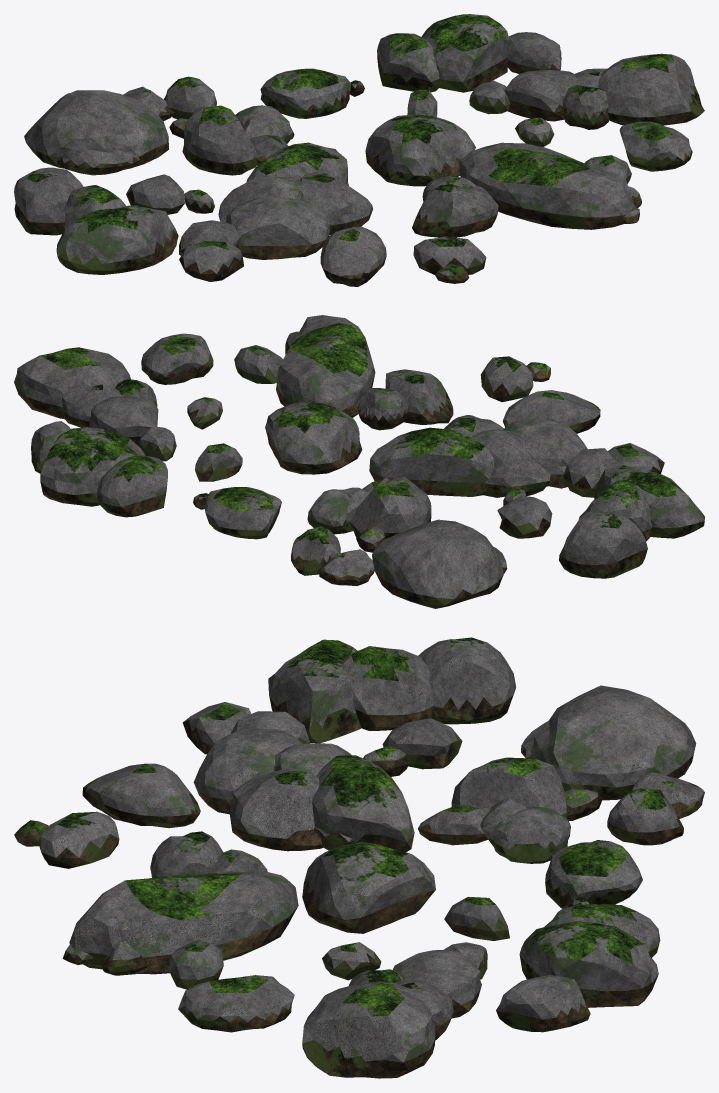
Rendered from Scree_Patch_B.glb.
The picture shows the model from 3 angles, top to bottom: view 1: azimuth 30°, elevation 25°; view 2: azimuth 150°, elevation 25°; view 3: azimuth 270°, elevation 25°; orthographic projection. The views are drawn at different scales.
Visible parts, largest first — view 1: Scree_Patch_B__Stone; view 2: Scree_Patch_B__Stone; view 3: Scree_Patch_B__Stone.
Boxes of the visible parts, bbox=[...] form: Scree_Patch_B__Stone: bbox=[14, 14, 704, 286]; Scree_Patch_B__Stone: bbox=[14, 315, 704, 608]; Scree_Patch_B__Stone: bbox=[14, 637, 704, 1078].
Bounding box in the file's own units: 17.55 × 1.38 × 12.57.
Materials: 1 (1 with a texture image).
